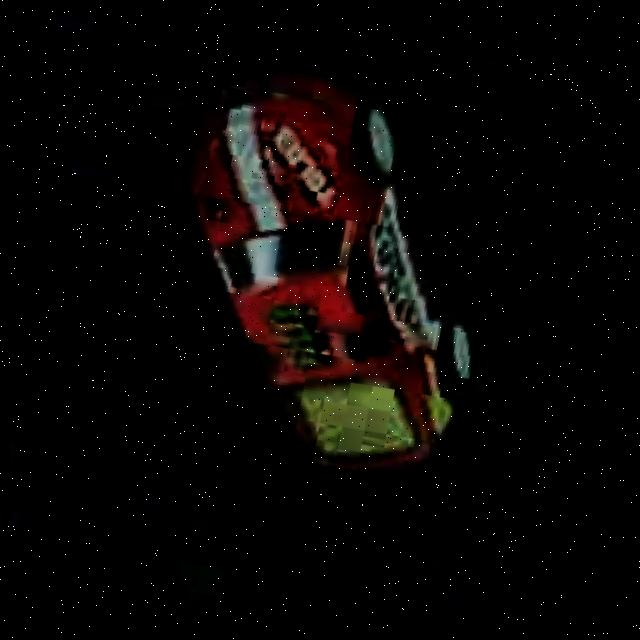car: (98, 24, 557, 532)
